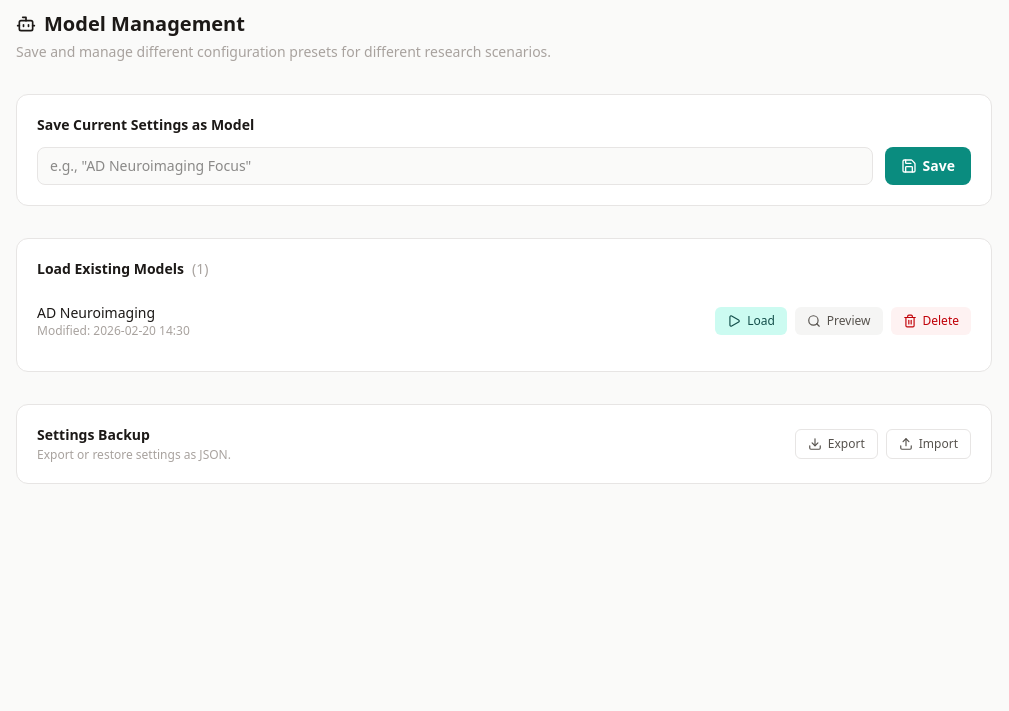
Test: ModelsTab › shows preview panel when Preview is clicked
Expected: the text "AD Neuroimaging" is shown, [37,303,155,322]
Click the button "Preview": x=839, y=321 [795,307,882,335]
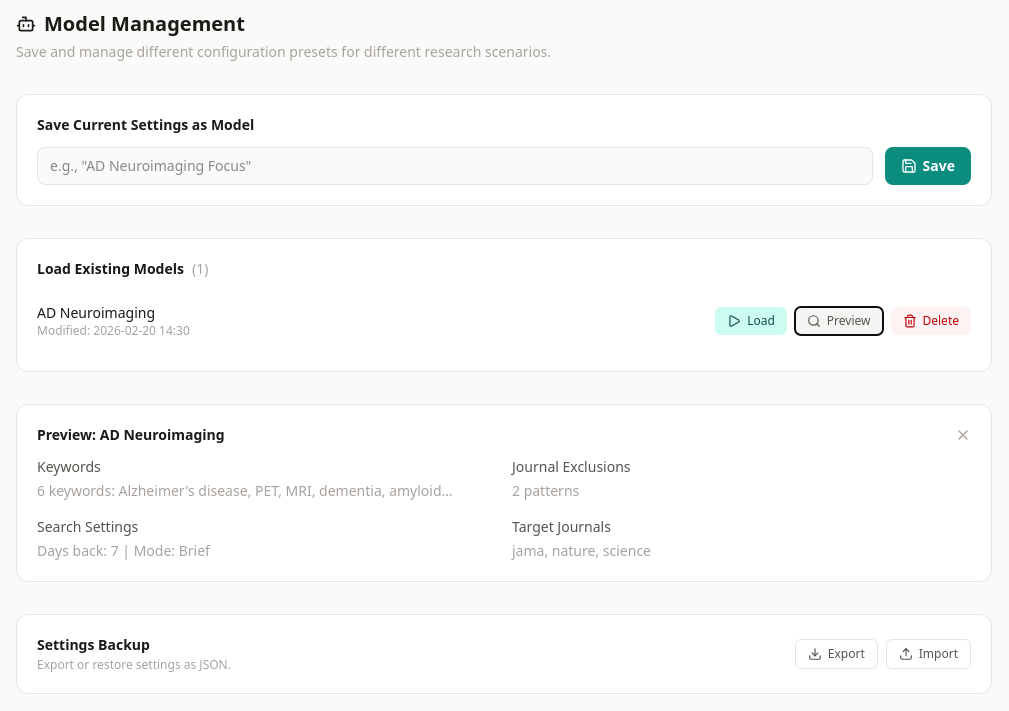
Expected: the heading "Preview: AD Neuroimaging" is shown, [37,425,225,445]
